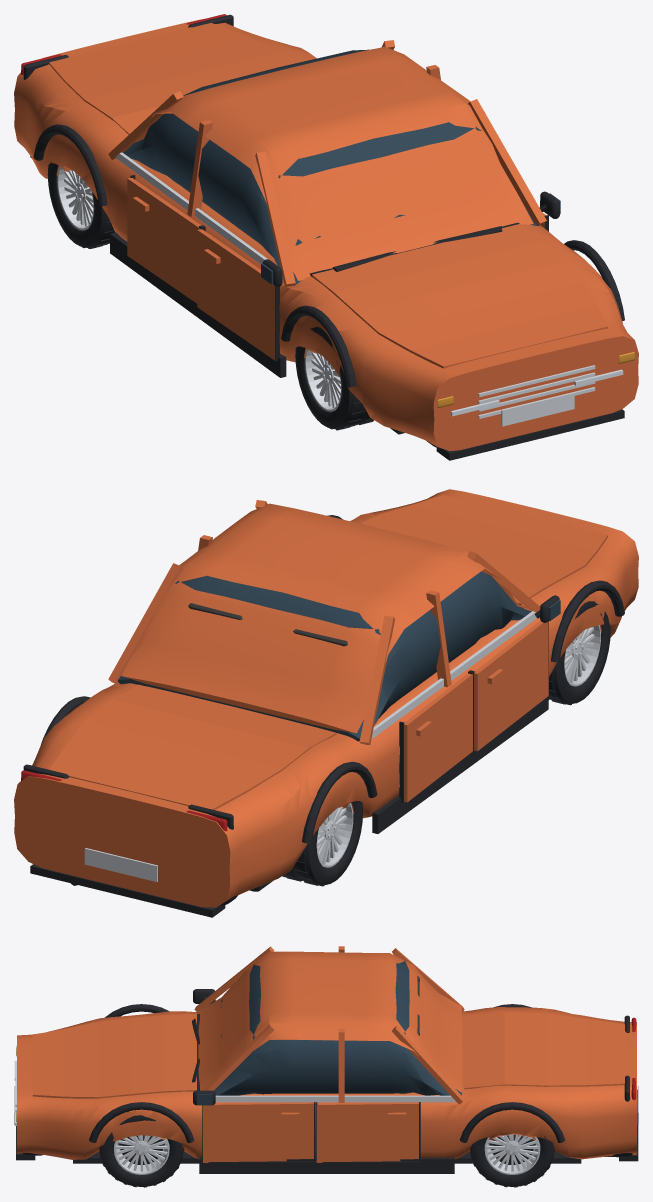
File: ExecutiveHD.fbx
The picture shows the model from 3 angles, top to bottom: view 1: azimuth 30°, elevation 25°; view 2: azimuth 150°, elevation 25°; view 3: azimuth 270°, elevation 25°; orthographic projection. The views are drawn at different scales.
Visible parts, largest first — view 1: body_executive-saloon_0, body_bonnet.001, body_boot.001, glass_executive-saloon_2, trim_executive-saloon_1, body_door-front-left.001, body_door-rear-left.001, rim_executive-saloon_6, trim_wheel-front-left_trim, trim_wheel-rear-left_trim, rim_wheel-rear-left_alloy, rim_wheel-front-left_alloy; view 2: body_executive-saloon_0, body_boot.001, glass_executive-saloon_2, body_bonnet.001, trim_executive-saloon_1, body_door-front-left.001, body_door-rear-left.001, rim_executive-saloon_6, trim_wheel-rear-left_trim, trim_wheel-front-left_trim, rim_wheel-rear-left_alloy, rim_wheel-front-left_alloy (+1 smaller); view 3: body_executive-saloon_0, body_bonnet.001, glass_executive-saloon_2, body_boot.001, trim_executive-saloon_1, body_door-front-right.001, body_door-rear-right.001, trim_wheel-front-right_trim, rim_executive-saloon_6, trim_wheel-rear-right_trim, rim_wheel-rear-right_alloy, rim_wheel-front-right_alloy.
Part boxes in pixels (left/top/right/bottom): body_executive-saloon_0: left=14, top=19, right=638, bottom=450; body_bonnet.001: left=312, top=224, right=607, bottom=368; body_boot.001: left=49, top=23, right=298, bottom=134; glass_executive-saloon_2: left=123, top=49, right=560, bottom=285; trim_executive-saloon_1: left=23, top=14, right=624, bottom=460; body_door-front-left.001: left=197, top=229, right=275, bottom=360; body_door-rear-left.001: left=127, top=177, right=201, bottom=303; rim_executive-saloon_6: left=115, top=152, right=595, bottom=426; trim_wheel-front-left_trim: left=295, top=327, right=373, bottom=430; trim_wheel-rear-left_trim: left=47, top=161, right=115, bottom=248; rim_wheel-rear-left_alloy: left=57, top=166, right=94, bottom=230; rim_wheel-front-left_alloy: left=305, top=349, right=341, bottom=411; body_executive-saloon_0: left=14, top=489, right=638, bottom=907; body_boot.001: left=49, top=684, right=336, bottom=809; glass_executive-saloon_2: left=118, top=572, right=560, bottom=741; body_bonnet.001: left=361, top=495, right=607, bottom=604; trim_executive-saloon_1: left=23, top=515, right=624, bottom=917; body_door-front-left.001: left=474, top=620, right=548, bottom=751; body_door-rear-left.001: left=404, top=673, right=472, bottom=802; rim_executive-saloon_6: left=84, top=611, right=536, bottom=881; trim_wheel-rear-left_trim: left=282, top=801, right=362, bottom=886; trim_wheel-front-left_trim: left=548, top=601, right=610, bottom=705; rim_wheel-rear-left_alloy: left=316, top=803, right=353, bottom=867; rim_wheel-front-left_alloy: left=564, top=625, right=600, bottom=686; body_executive-saloon_0: left=17, top=946, right=636, bottom=1159; body_bonnet.001: left=32, top=1014, right=196, bottom=1098; glass_executive-saloon_2: left=197, top=960, right=461, bottom=1104; body_boot.001: left=464, top=1012, right=626, bottom=1089; trim_executive-saloon_1: left=16, top=989, right=638, bottom=1173; body_door-front-right.001: left=203, top=1102, right=313, bottom=1162; body_door-rear-right.001: left=316, top=1102, right=418, bottom=1162; trim_wheel-front-right_trim: left=99, top=1115, right=184, bottom=1187; rim_executive-saloon_6: left=14, top=1062, right=638, bottom=1124; trim_wheel-rear-right_trim: left=470, top=1135, right=554, bottom=1187; rim_wheel-rear-right_alloy: left=484, top=1134, right=540, bottom=1174; rim_wheel-front-right_alloy: left=114, top=1135, right=169, bottom=1174.
Bounding box in the file's own units: 181 × 124 × 453.
